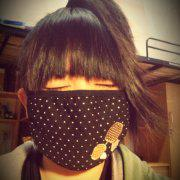OK: (26, 70, 129, 173)
